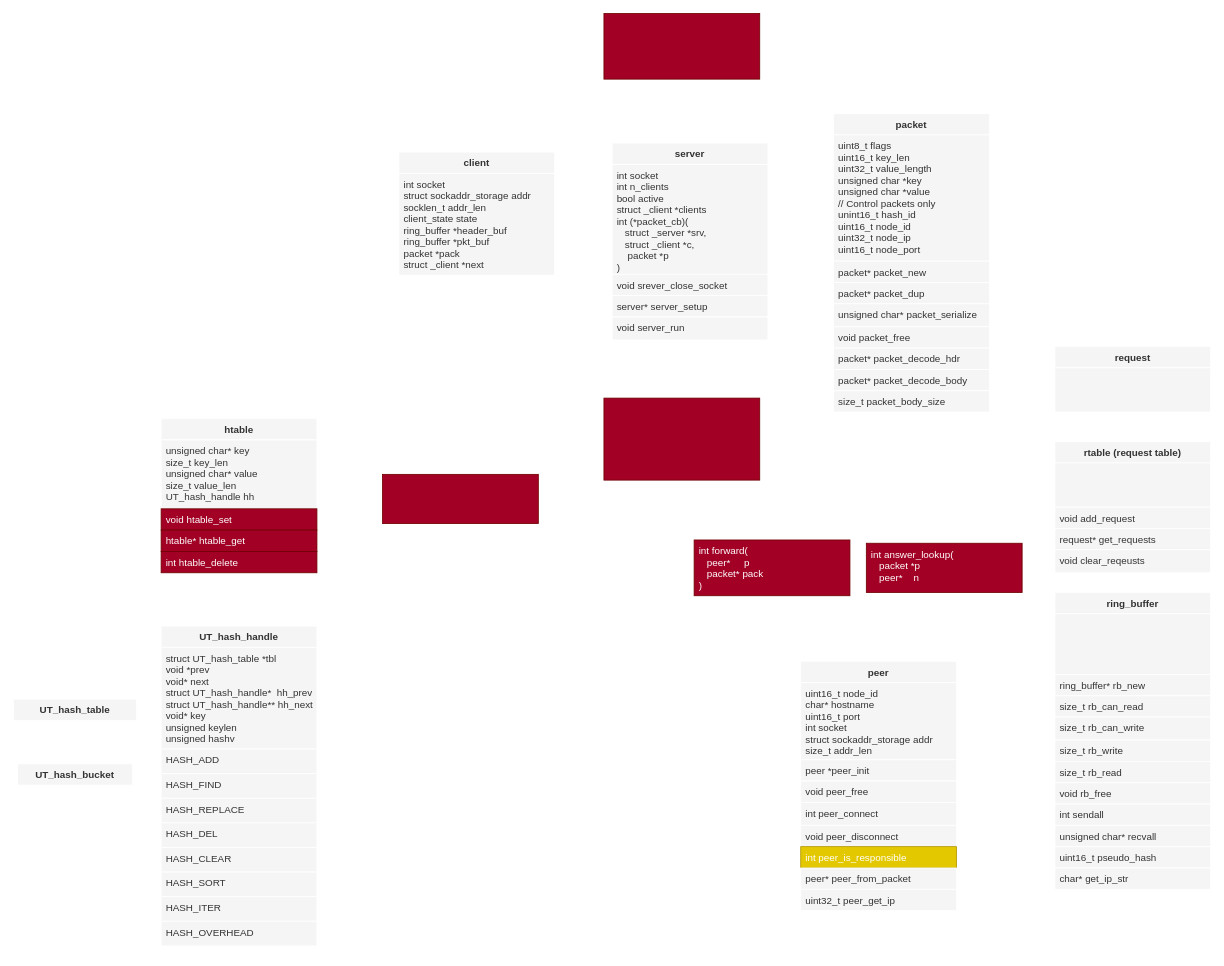
Some shapes in this 1224 by 966 pixel diagram are drawn without their labels. Here are the shapes that lost their labels. From the top down, the centre of each, then its label:
At point 681,46: "int handle_own_request( server* srv client* c packet* p )".
At point 1132,389: "packet* packet int socket struct _request* next".
At point 681,438: "int proxy_request( server* serv int csocket packet* p peer* n )".
At point 460,499: "int lookup_peer( uint16_t hash_id )".
At point 1132,484: "uint16_t hash_id request* open_requests UT_hash_handle hh".
At point 1132,643: "unsigned char* buffer size_t bufsize size_t wpos size_t rpos".
